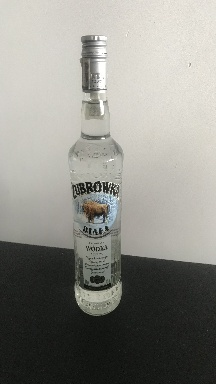butelka: (66, 32, 125, 319)
